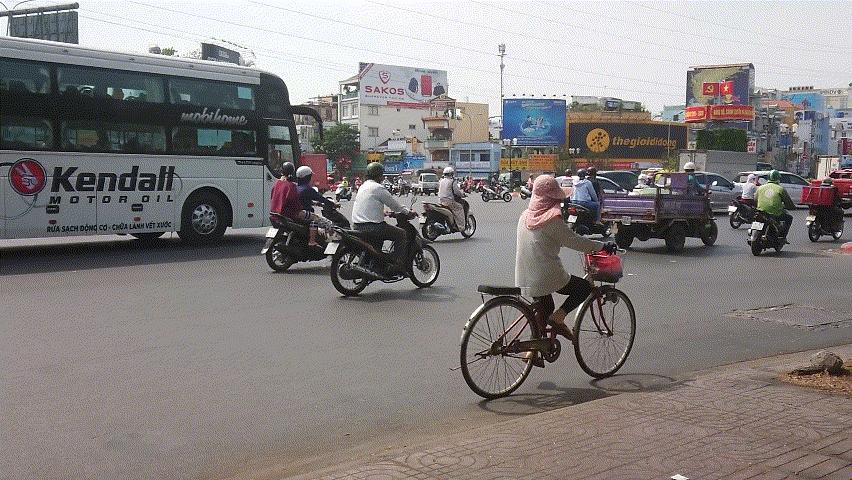bicyclist: (450, 172, 638, 398)
driver: (324, 161, 442, 298), (261, 163, 351, 272), (745, 168, 799, 258), (419, 164, 478, 242), (801, 176, 848, 242)
helmet: (364, 162, 388, 183), (296, 164, 317, 187)
no-helmet: (529, 173, 568, 218)
